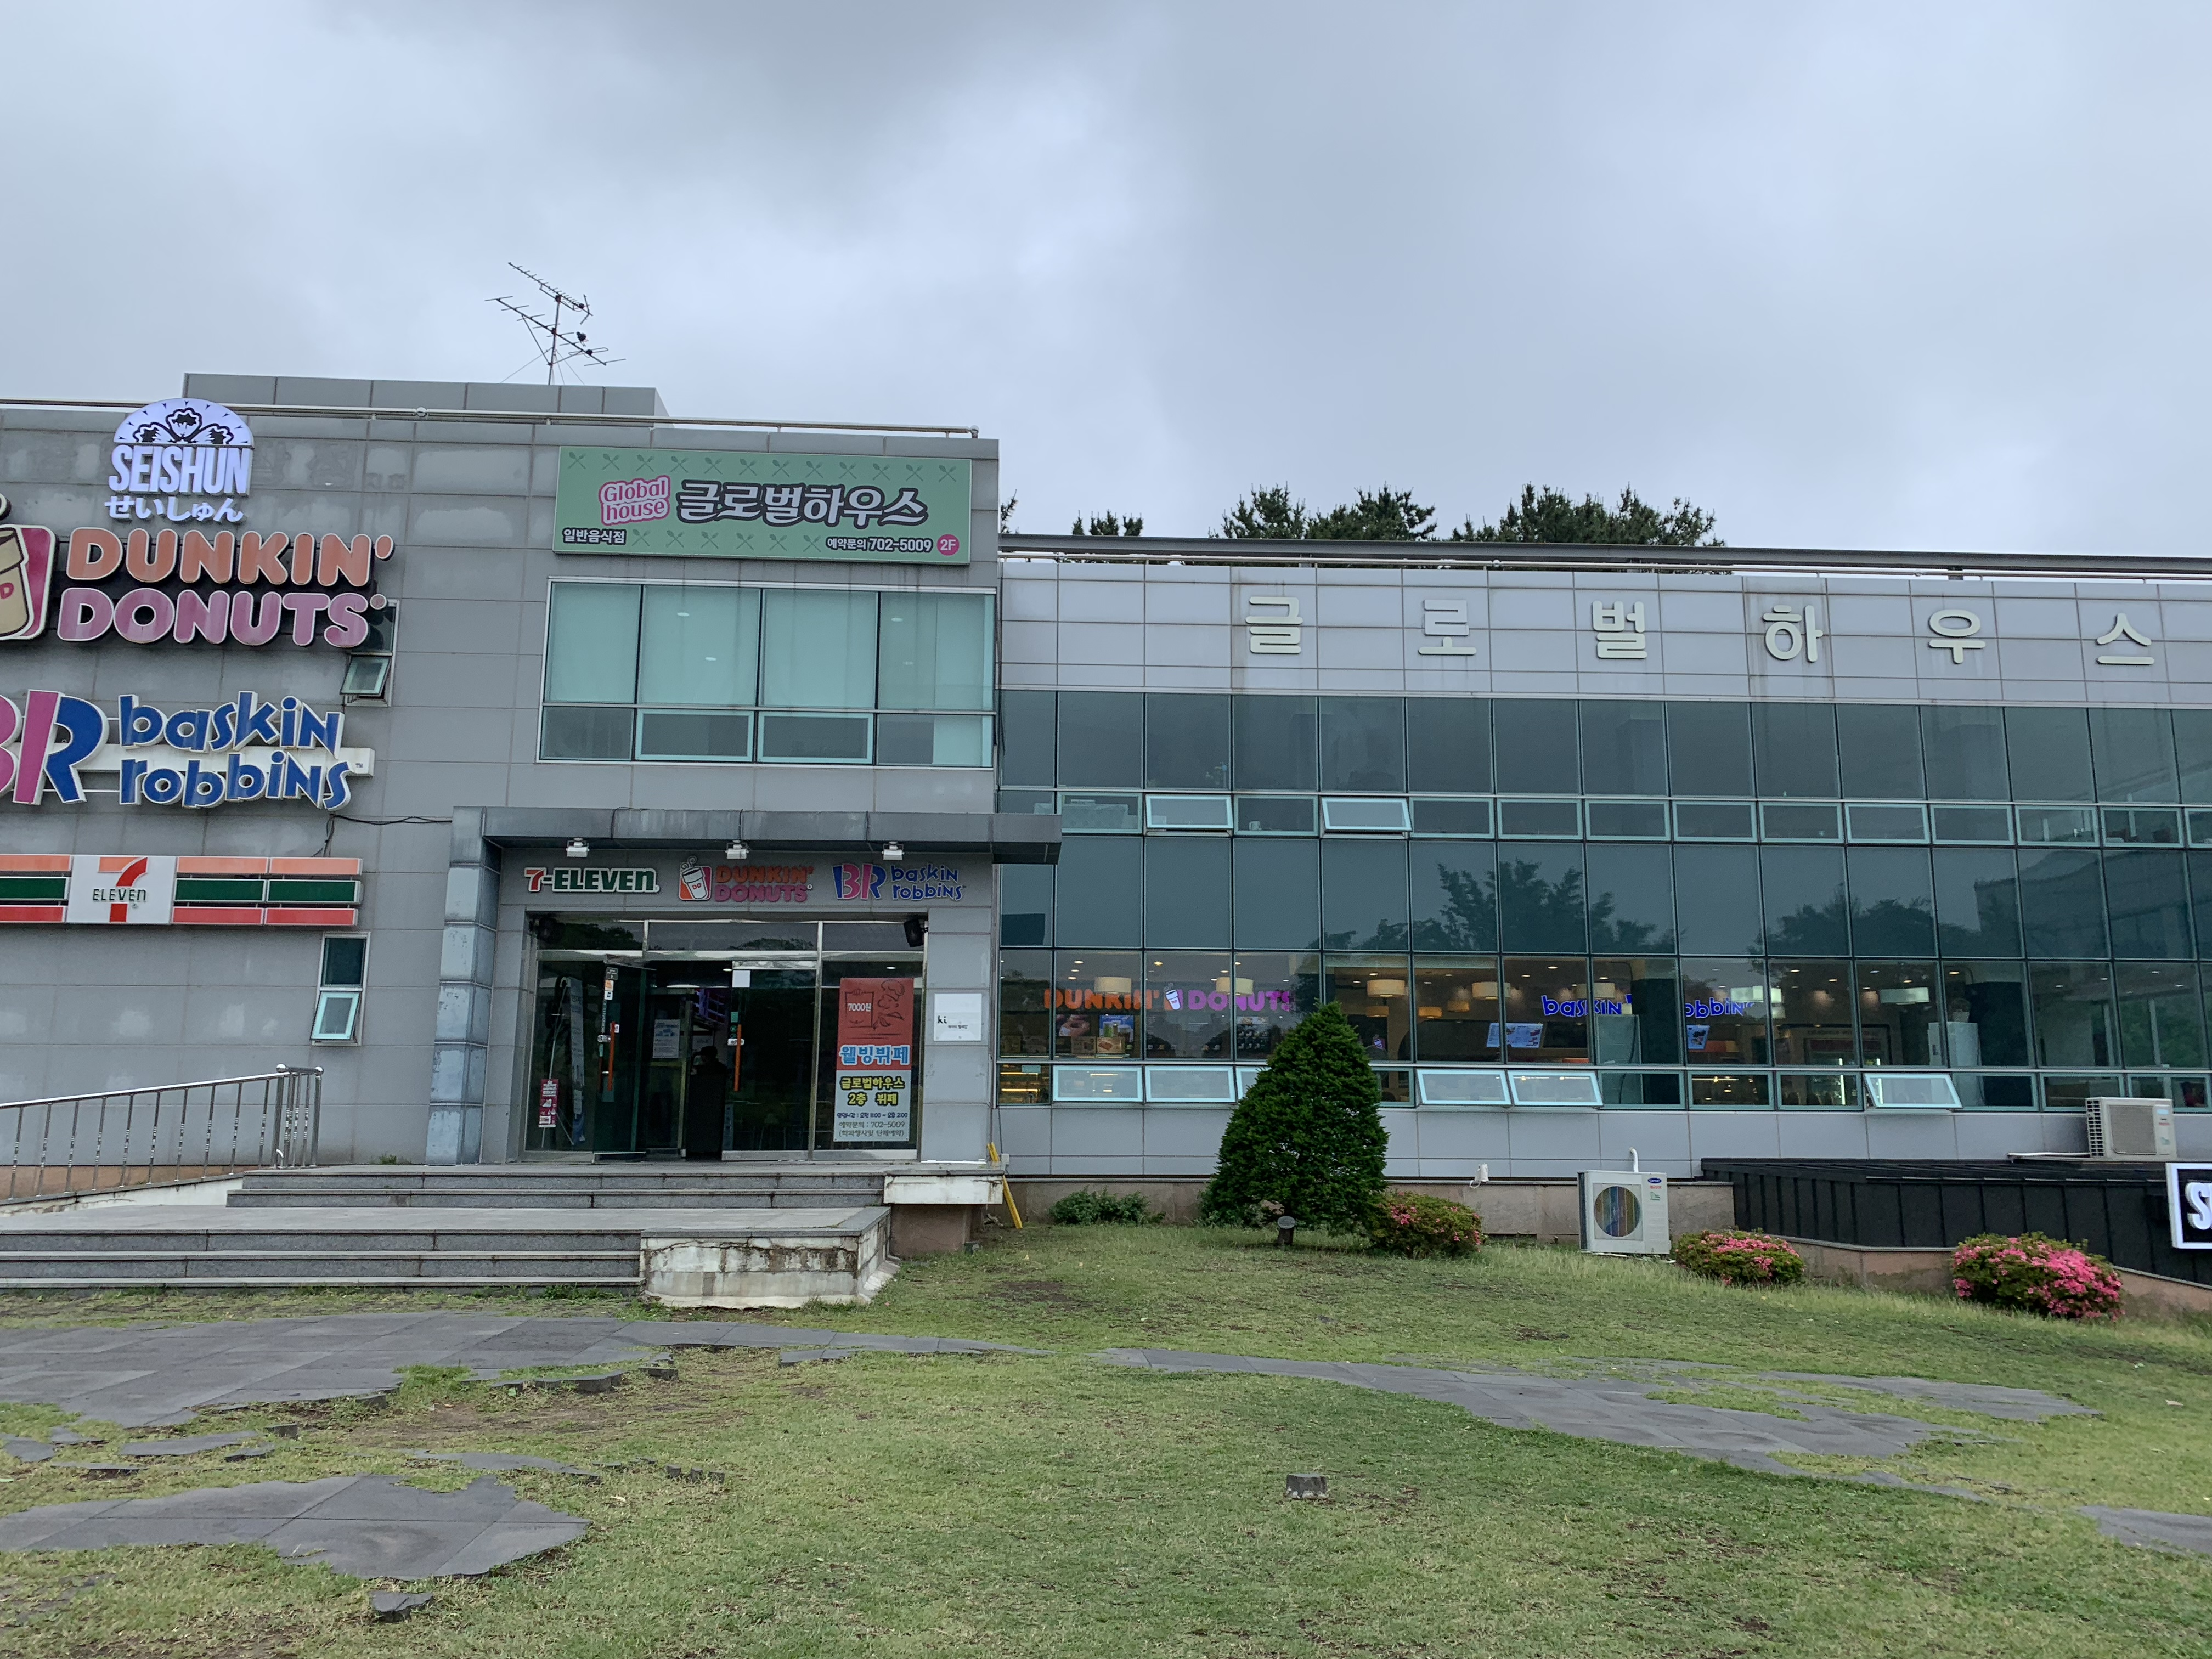Global House: (23, 368, 2200, 1312)
